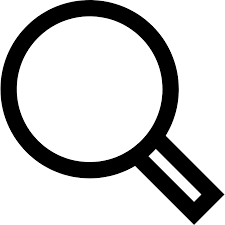searchIcon: (2, 1, 225, 224)
